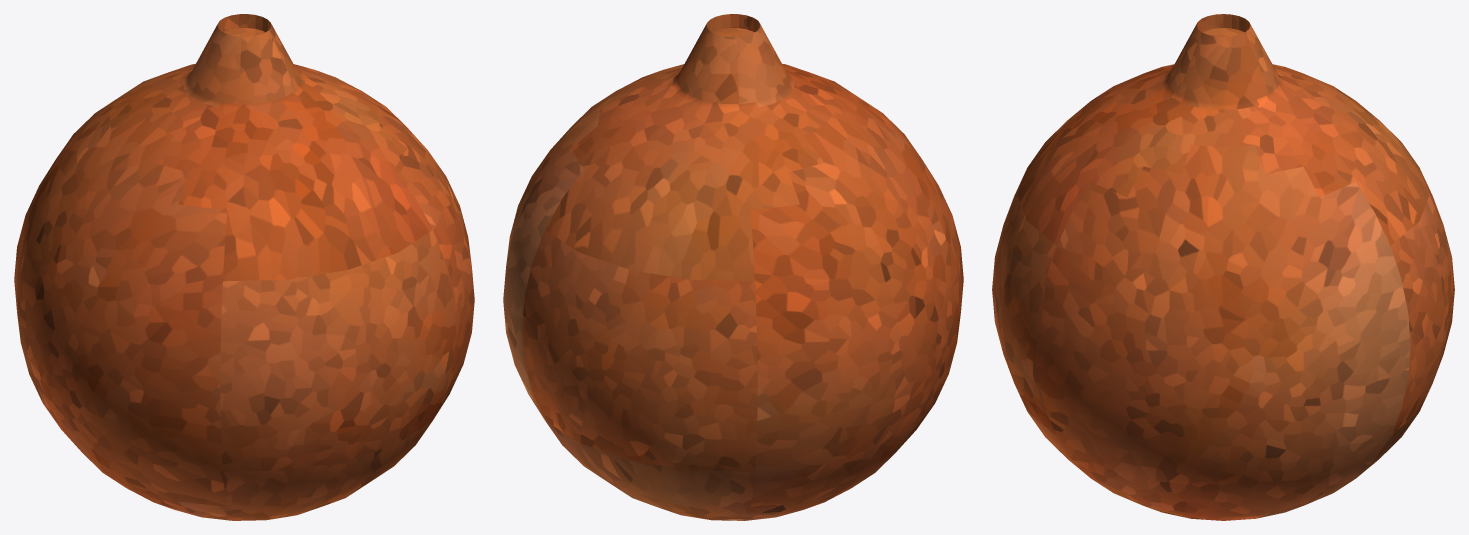
File: onion.fbx
3 renders of one model, left to right at view 1: azimuth 30°, elevation 25°; view 2: azimuth 150°, elevation 25°; view 3: azimuth 270°, elevation 25°, orthographic.
Parts seen in each view (by area): view 1: pSphere1; view 2: pSphere1; view 3: pSphere1.
Boxes of the visible parts, bbox=[...] form: pSphere1: bbox=[14, 14, 474, 520]; pSphere1: bbox=[503, 14, 963, 520]; pSphere1: bbox=[992, 14, 1454, 520].
Size of the model in its own units: 3.04 by 3.43 by 3.04.
Materials: 1 (1 with a texture image).
